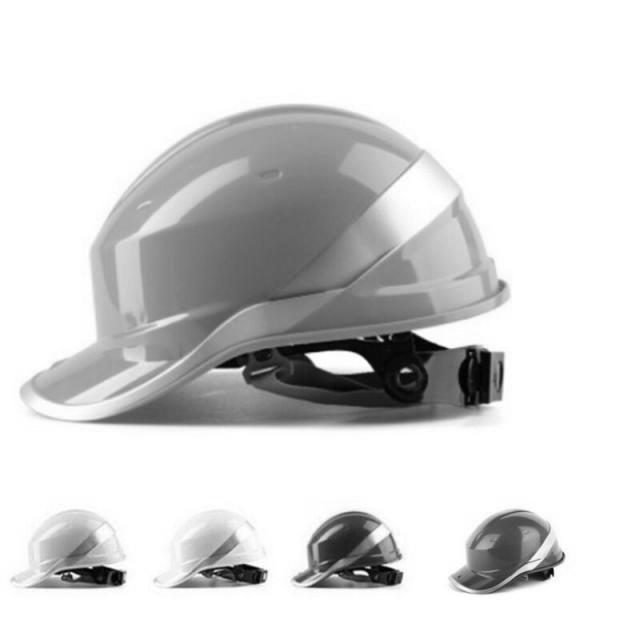construction helmet: (19, 106, 512, 425), (447, 507, 570, 603), (11, 507, 130, 591), (291, 510, 405, 593), (151, 517, 268, 593)
